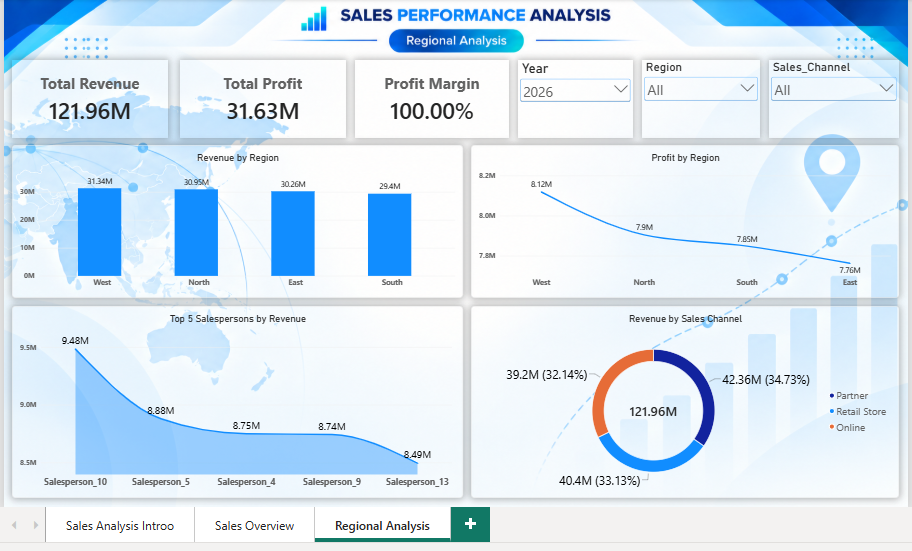

What the dashboard file says about the page in this screenshot:
{"tool":"powerbi","page":{"name":"Regional Analysis","canvas":[1920,1080],"ordinal":2},"visuals":[{"type":"cardVisual","fields":{"Data":["Sales_Cleaned.Total Revenue"]},"box":[17,129.7,331.7,165.8],"z":0},{"type":"cardVisual","fields":{"Data":["Sales_Cleaned.Total Profit"]},"box":[374.2,129.7,352.9,165.8],"z":1000},{"type":"cardVisual","fields":{"Data":["Customers_Master.Profit Margin"]},"box":[746.2,129.7,327.4,165.8],"z":2000},{"type":"slicer","fields":{"Values":["DateTable.Year"]},"box":[1092.8,129.7,244.5,165.8],"z":3000},{"type":"slicer","fields":{"Values":["Sales_Cleaned.Region"]},"box":[1356.4,129.7,250.9,165.8],"z":4000},{"type":"slicer","fields":{"Values":["Sales_Cleaned.Sales_Channel"]},"box":[1626.4,129.7,276.4,165.8],"z":5000},{"type":"columnChart","title":"Revenue by Region","fields":{"Category":["Sales_Cleaned.Region"],"Y":["Sales_Cleaned.Total Revenue"]},"box":[17,310.4,958.8,325.3],"z":5001},{"type":"lineChart","title":"Profit by Region","fields":{"Category":["Sales_Cleaned.Region"],"Y":["Sales_Cleaned.Total Profit"]},"box":[992.8,310.4,909.9,325.3],"z":5002},{"type":"donutChart","title":"Revenue by Sales Channel","fields":{"Category":["Sales_Cleaned.Sales_Channel"],"Y":["Sales_Cleaned.Total Revenue"]},"box":[992.8,652.7,909.9,408.2],"z":5003},{"type":"areaChart","title":"Top 5 Salespersons by Revenue","fields":{"Category":["Sales_Cleaned.Salesperson"],"Y":["Sales_Cleaned.Total Revenue"]},"box":[17,652.7,958.8,408.2],"z":5004}]}

Visuals, with their boxes on the page's 1920x1080 design canvas (x1, y1, x2, y2). These are canvas units, not pixel positions in the 912x551 screenshot, which may show the page scaled, cropped or inside an application window:
cardVisual - Sales_Cleaned.Total Revenue: locate(17, 130, 349, 296)
cardVisual - Sales_Cleaned.Total Profit: locate(374, 130, 727, 296)
cardVisual - Customers_Master.Profit Margin: locate(746, 130, 1074, 296)
slicer - DateTable.Year: locate(1093, 130, 1337, 296)
slicer - Sales_Cleaned.Region: locate(1356, 130, 1607, 296)
slicer - Sales_Cleaned.Sales_Channel: locate(1626, 130, 1903, 296)
"Revenue by Region" columnChart: locate(17, 310, 976, 636)
"Profit by Region" lineChart: locate(993, 310, 1903, 636)
"Revenue by Sales Channel" donutChart: locate(993, 653, 1903, 1061)
"Top 5 Salespersons by Revenue" areaChart: locate(17, 653, 976, 1061)
